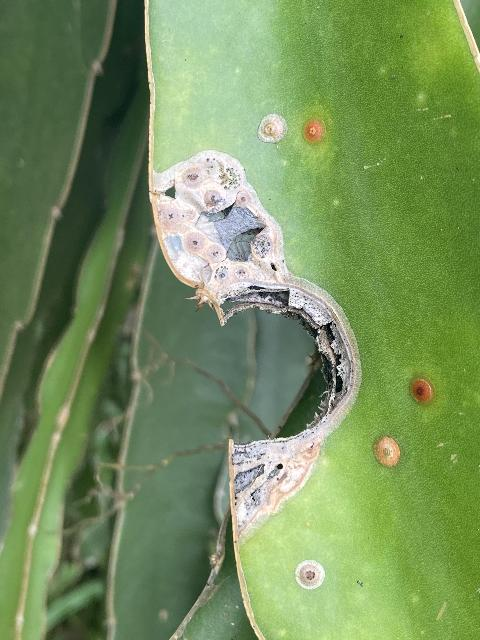stemcanker: (148, 145, 369, 538)
